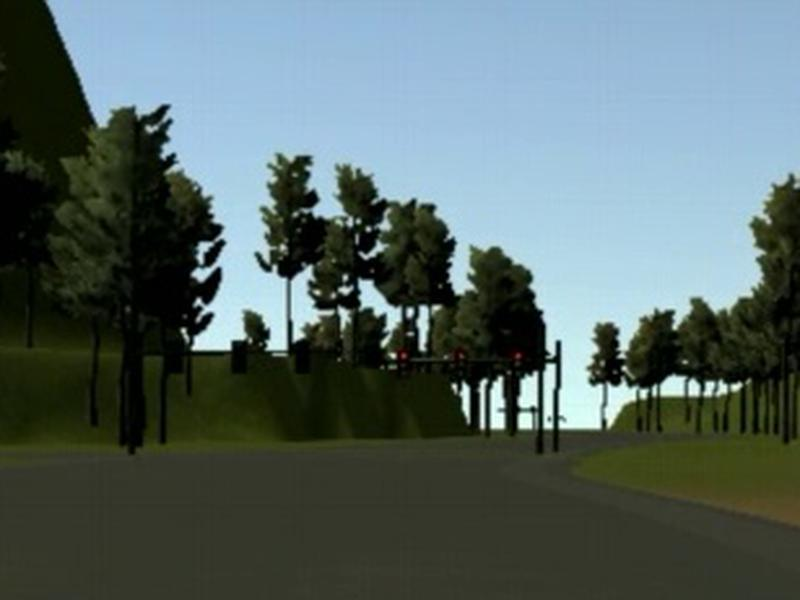Red: (396, 350, 409, 381), (454, 349, 467, 379), (511, 351, 524, 379)
